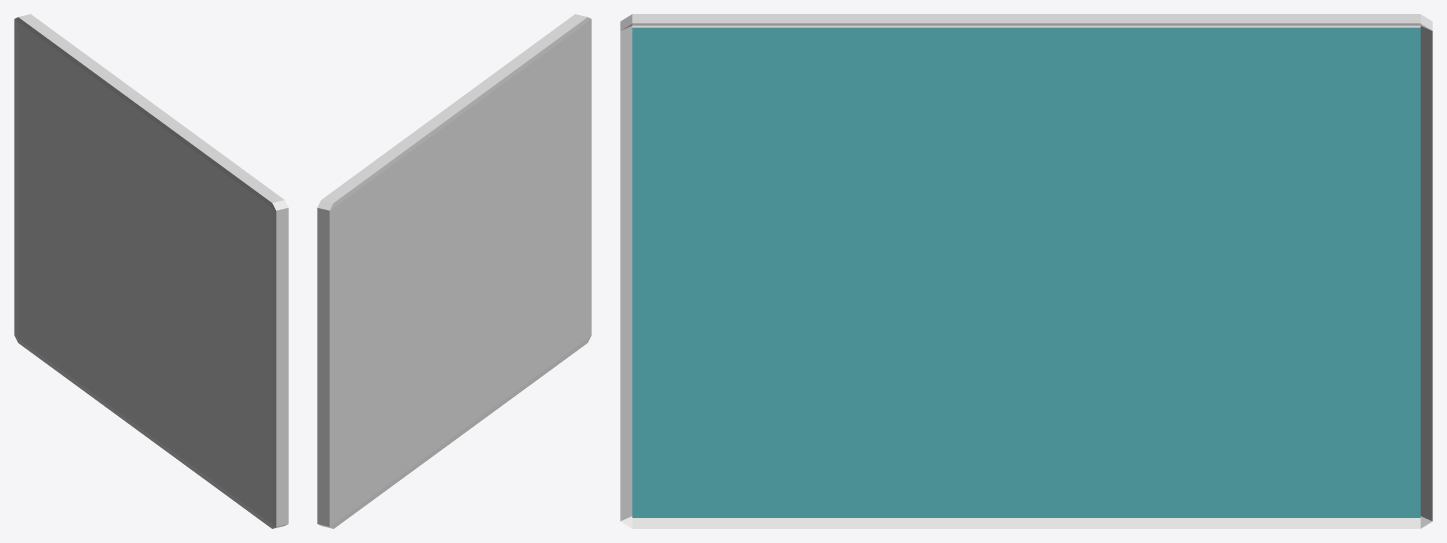
The model's file is board.fbx.
3 views of the same model, side by side, from view 1: azimuth 30°, elevation 25°; view 2: azimuth 150°, elevation 25°; view 3: azimuth 270°, elevation 25° (orthographic). The views are drawn at different scales.
Visible parts, largest first — view 1: Cube; view 2: Cube; view 3: Cube.
Part boxes in pixels (box(x1,y1,x2,y2)): Cube: box(14, 14, 288, 528); Cube: box(317, 14, 591, 528); Cube: box(620, 14, 1432, 528).
Bounding box in the file's own units: 10.37 × 254 × 369.
